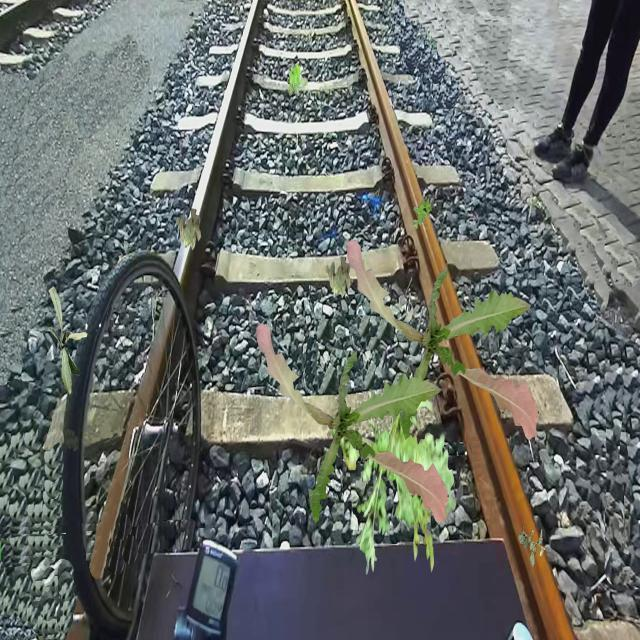Plant: (346, 239, 538, 442), (256, 322, 448, 524), (332, 380, 457, 576), (48, 286, 88, 396), (518, 526, 546, 567), (176, 208, 202, 250), (326, 256, 352, 298), (287, 63, 308, 96), (413, 197, 432, 230)
